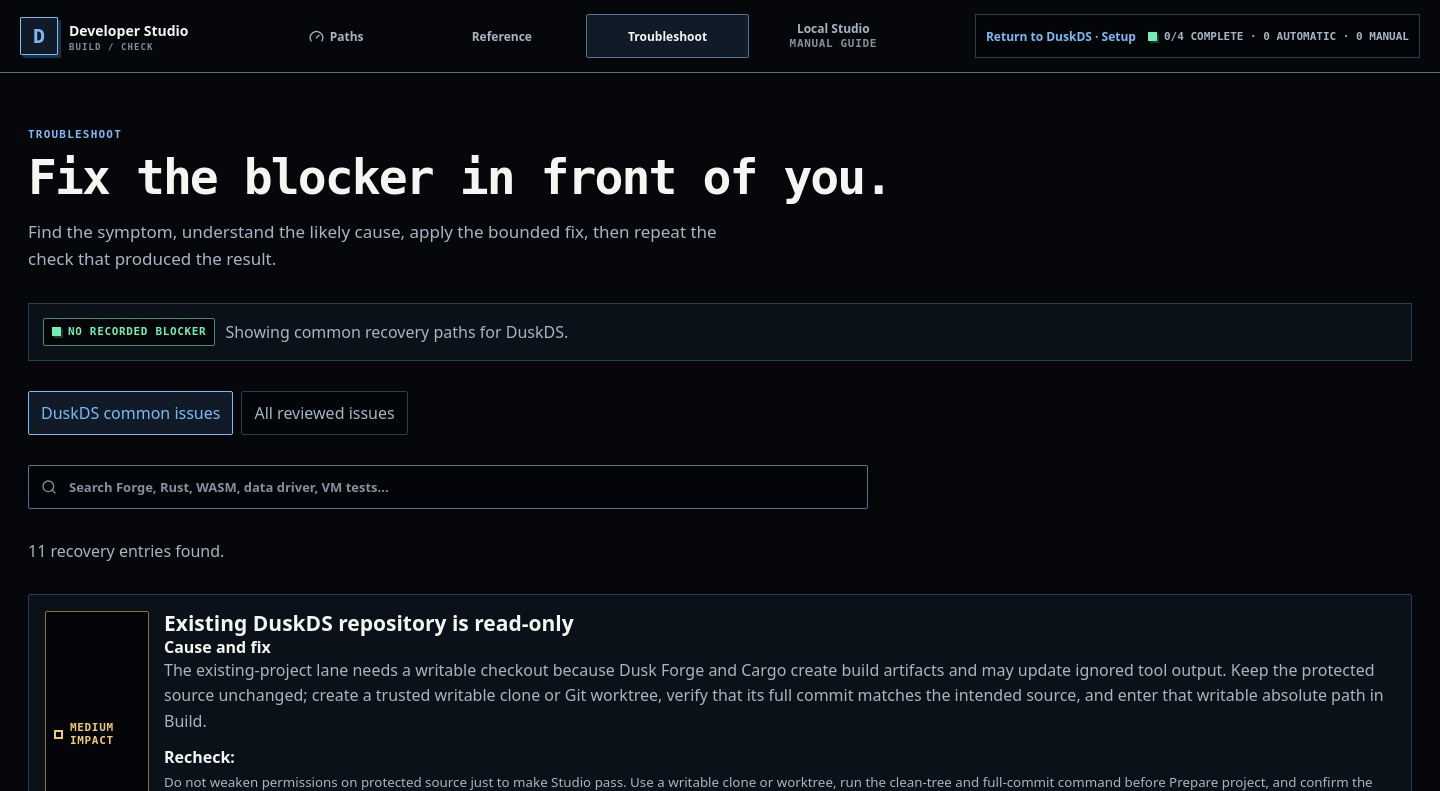
App › keeps common recovery focused while making every reviewed issue reachable
This screenshot has width=1440, height=791.
Click the button "All reviewed issues".
click(325, 413)  # box [242,391,408,435]
(page scrolled)
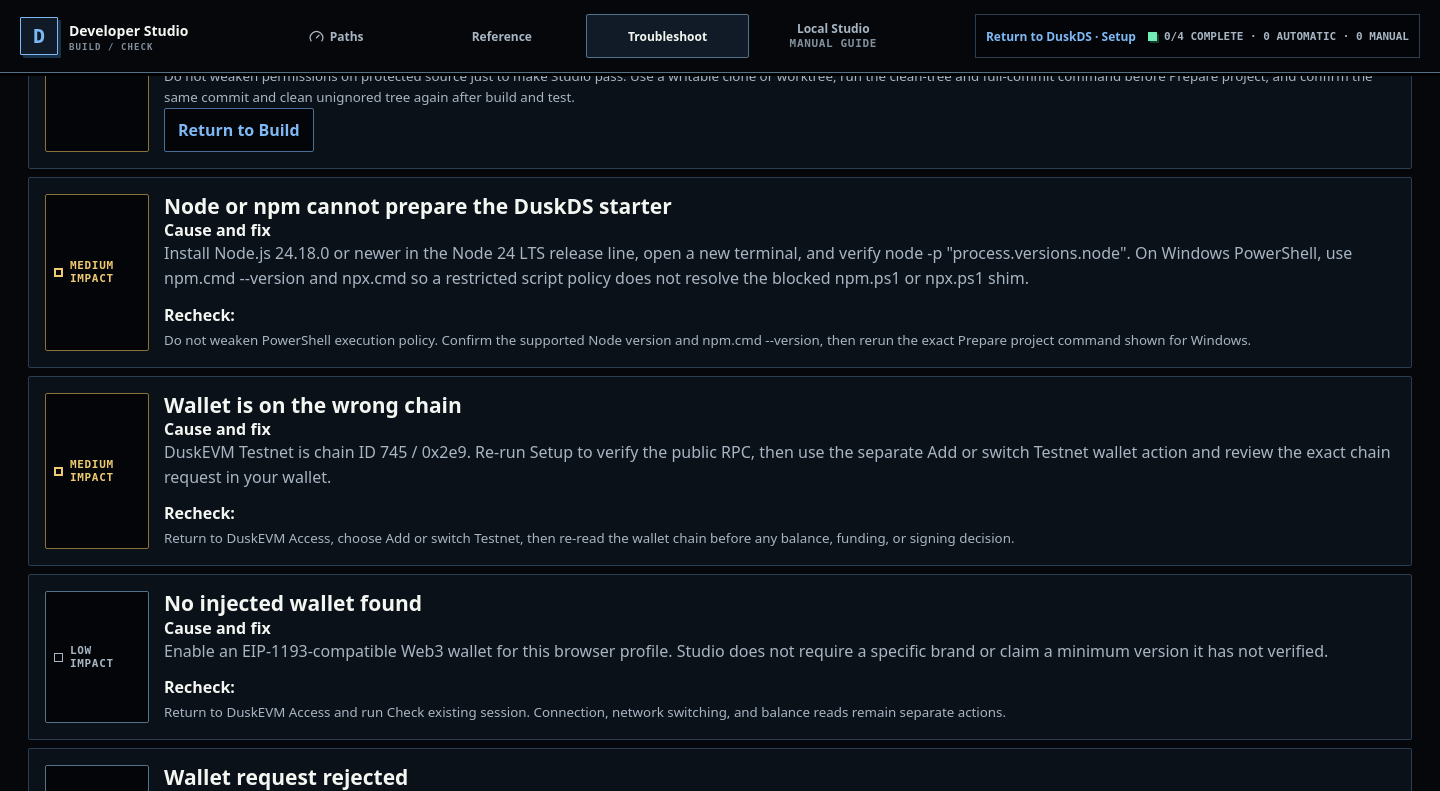
expect the heading "Wallet is on the wrong chain" is shown: met, box [164,391,462,419]
